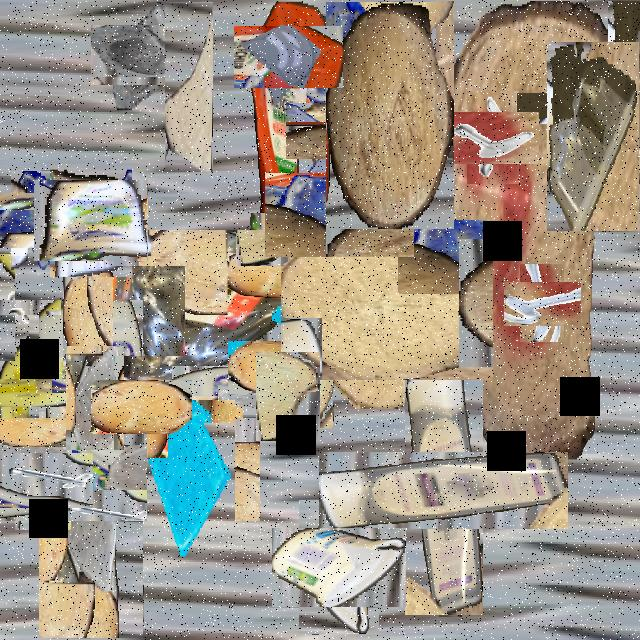glass: (147, 400, 235, 556), (280, 157, 398, 273), (245, 14, 331, 100), (102, 13, 185, 97), (66, 346, 124, 450), (296, 93, 374, 170), (0, 182, 78, 259)
metal: (4, 441, 82, 519), (457, 102, 529, 175), (512, 274, 572, 334), (0, 277, 38, 337)
plastic: (0, 359, 201, 580), (93, 221, 287, 415), (362, 409, 526, 572), (249, 2, 329, 286), (547, 43, 639, 231), (286, 513, 392, 621), (42, 172, 140, 270), (562, 47, 640, 169), (0, 341, 66, 444)
wood: (436, 1, 640, 468), (294, 207, 480, 394), (326, 2, 454, 229), (87, 266, 185, 356), (165, 2, 213, 172), (102, 368, 180, 446), (250, 358, 326, 435), (63, 260, 113, 366)
